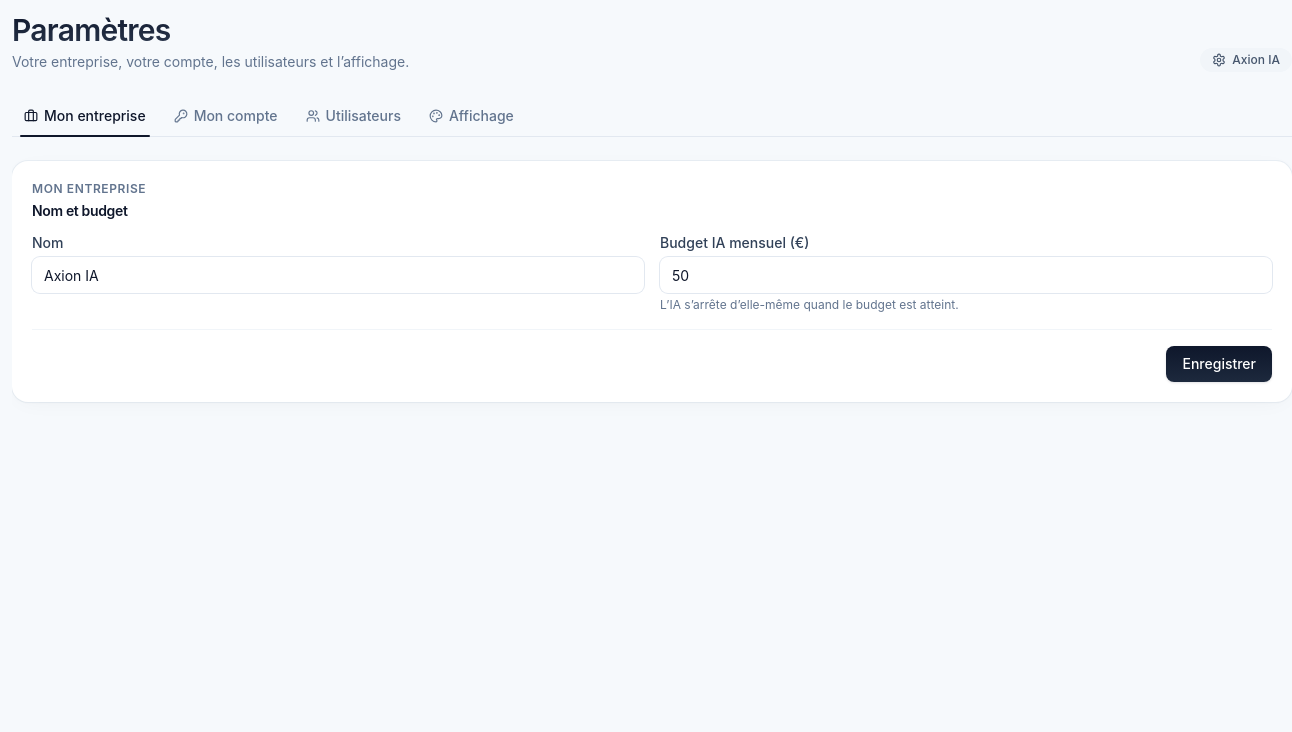
Test: Paramètres → Mon compte → Changer mon mot de passe › ancien mot de passe incorrect : le dit clairement
Click the tab "Mon compte": point(226, 116) 162,96 -> 290,136
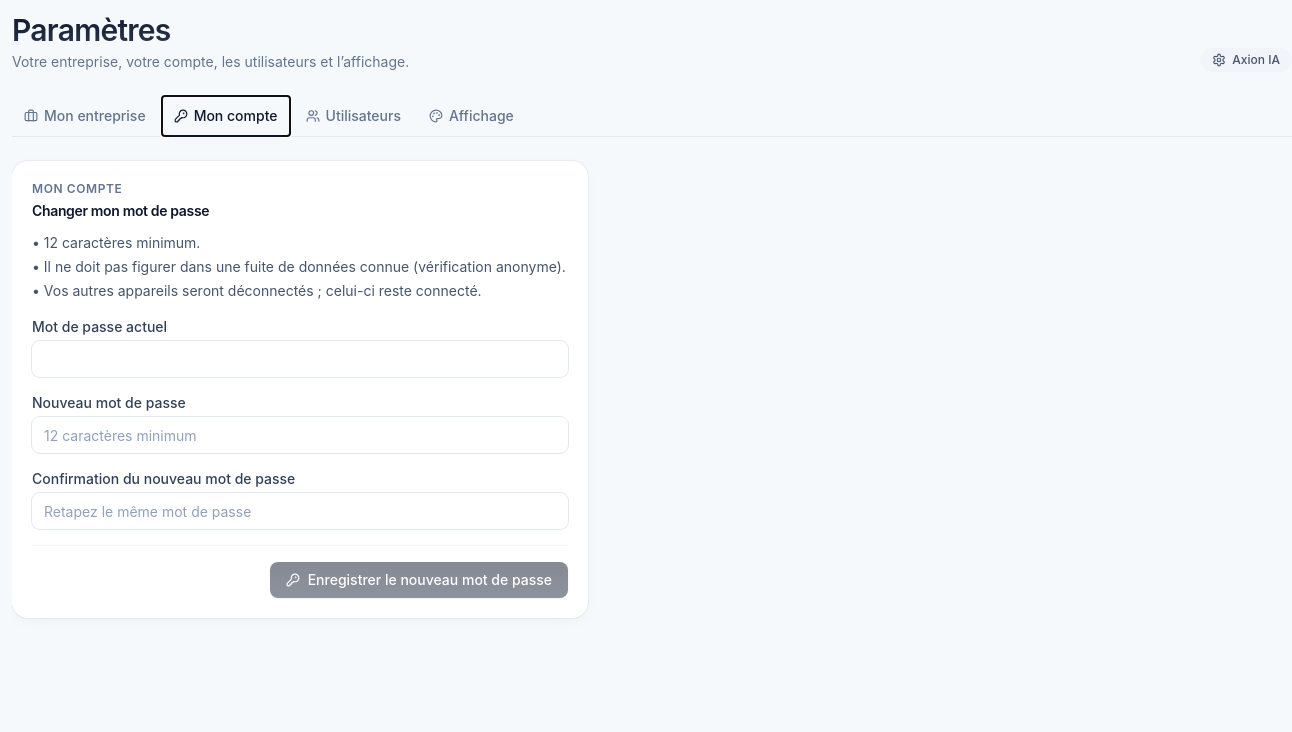
In the password field labelled "Mot de passe actuel": point(300, 359) 32,341 -> 568,377, type "faux"
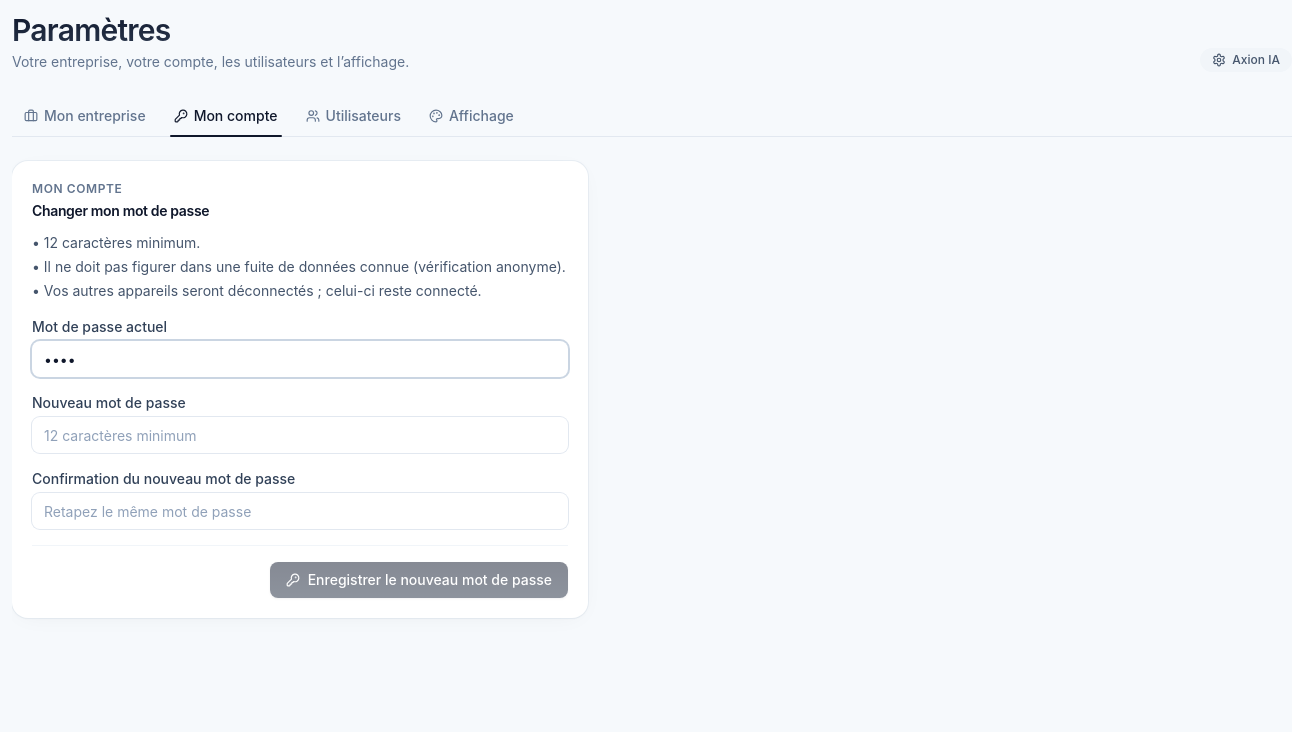
In the password field labelled "Nouveau mot de passe": point(300, 435) 32,417 -> 568,453, type "NouveauMotDePasse-2026"
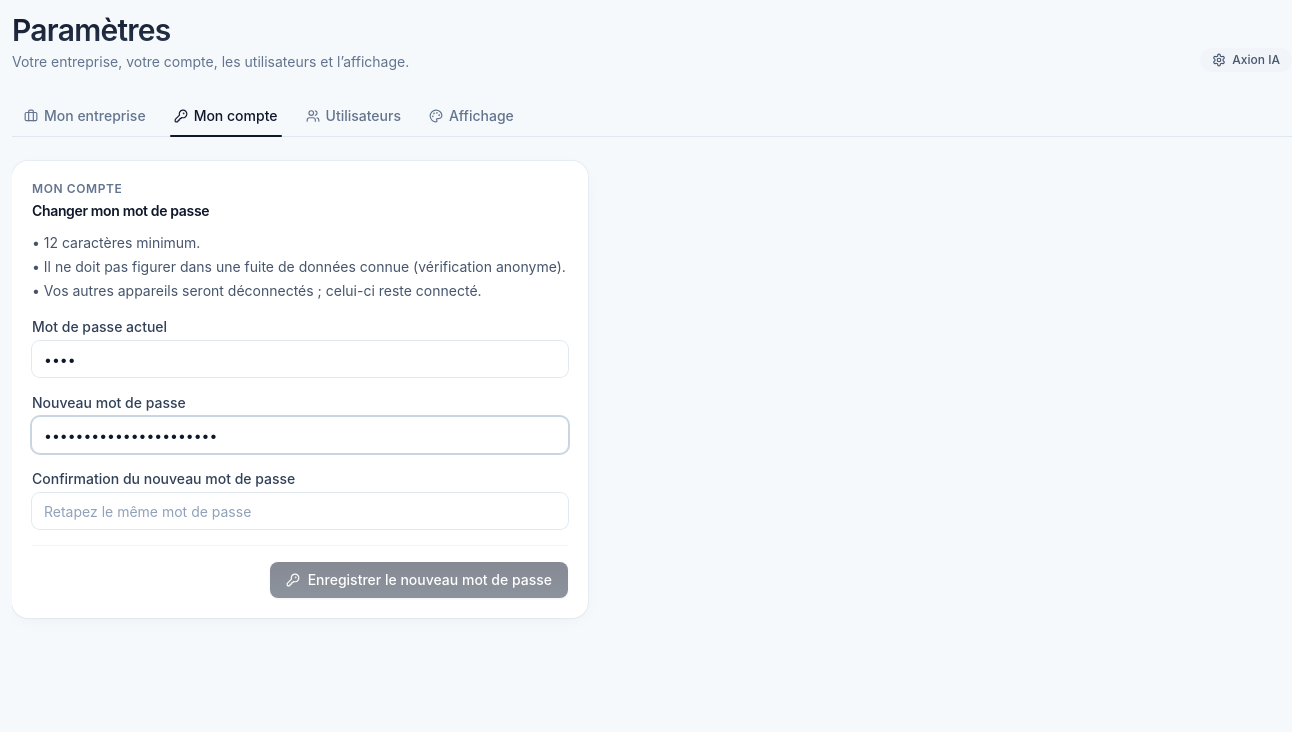
In the password field labelled "Confirmation du nouveau mot de passe": point(300, 511) 32,493 -> 568,529, type "NouveauMotDePasse-2026"
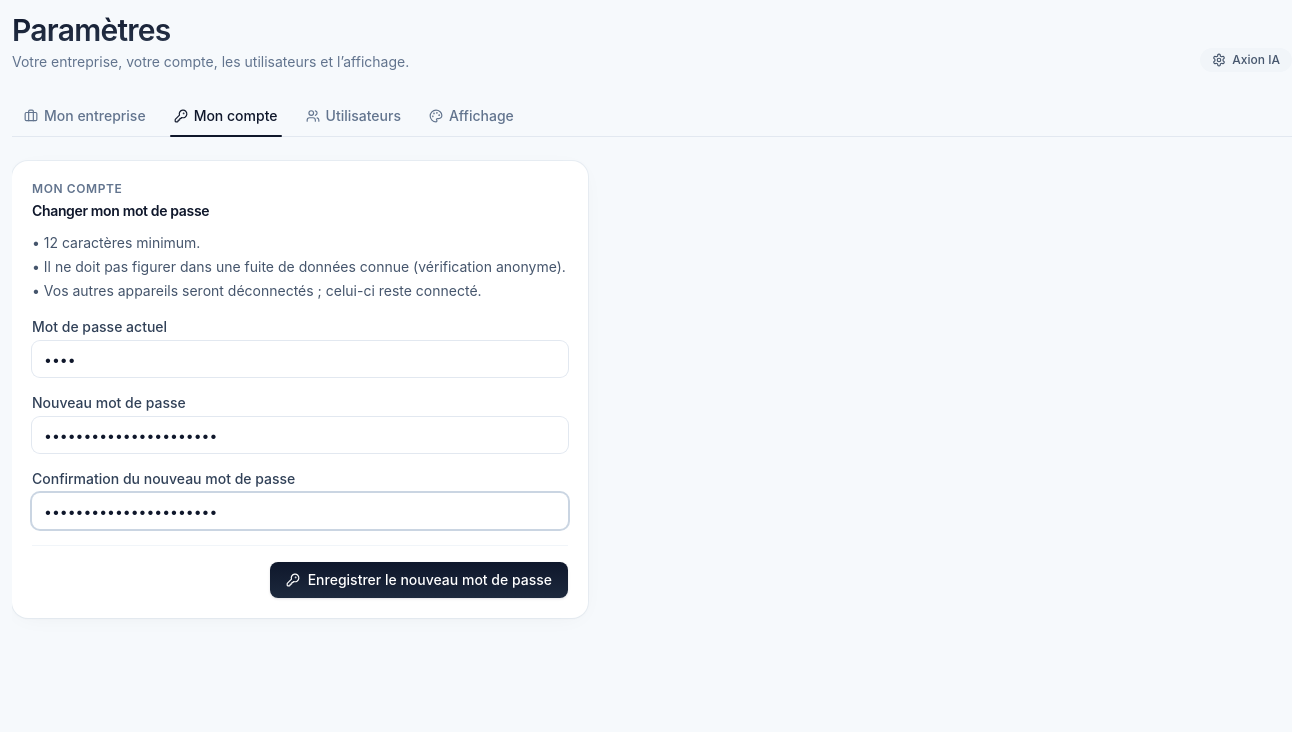
Click the button "Enregistrer le nouveau mot de passe": point(419, 580) 270,562 -> 568,598
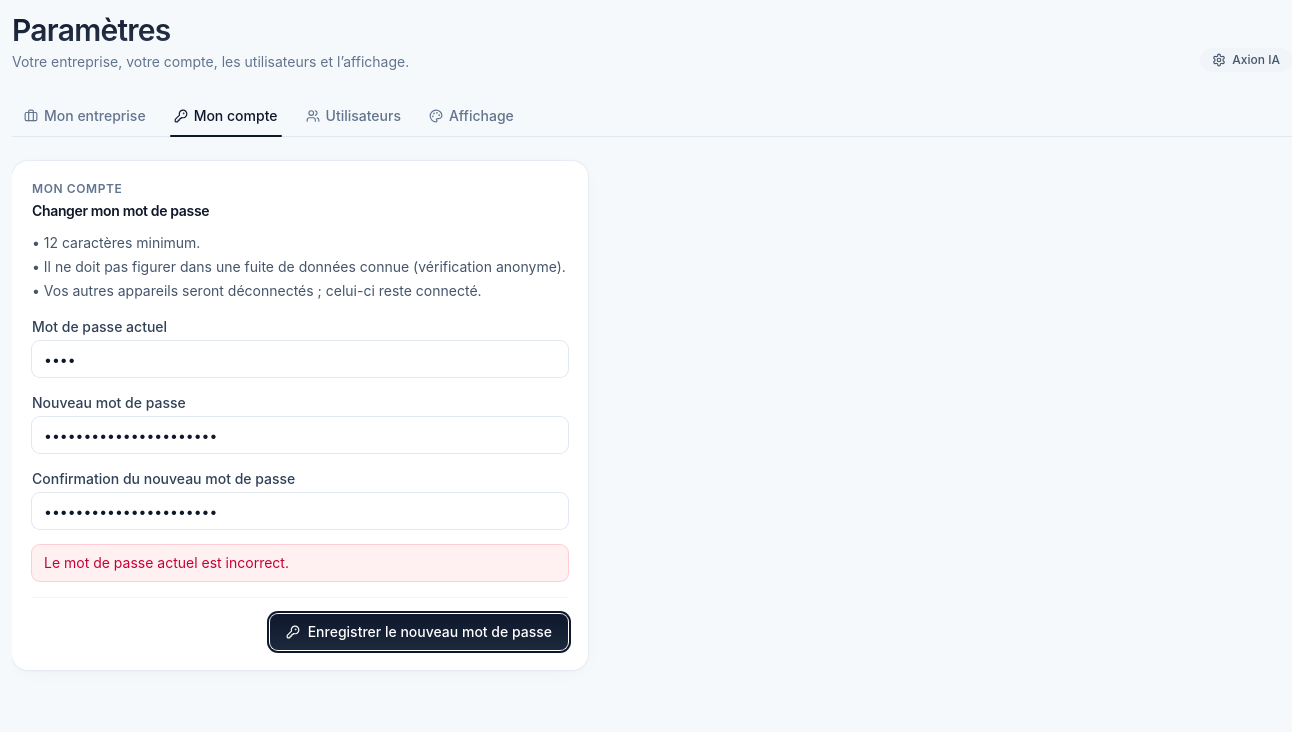
Check: the message reads "Le mot de passe actuel est incorrect.", box 44,554 -> 289,571
